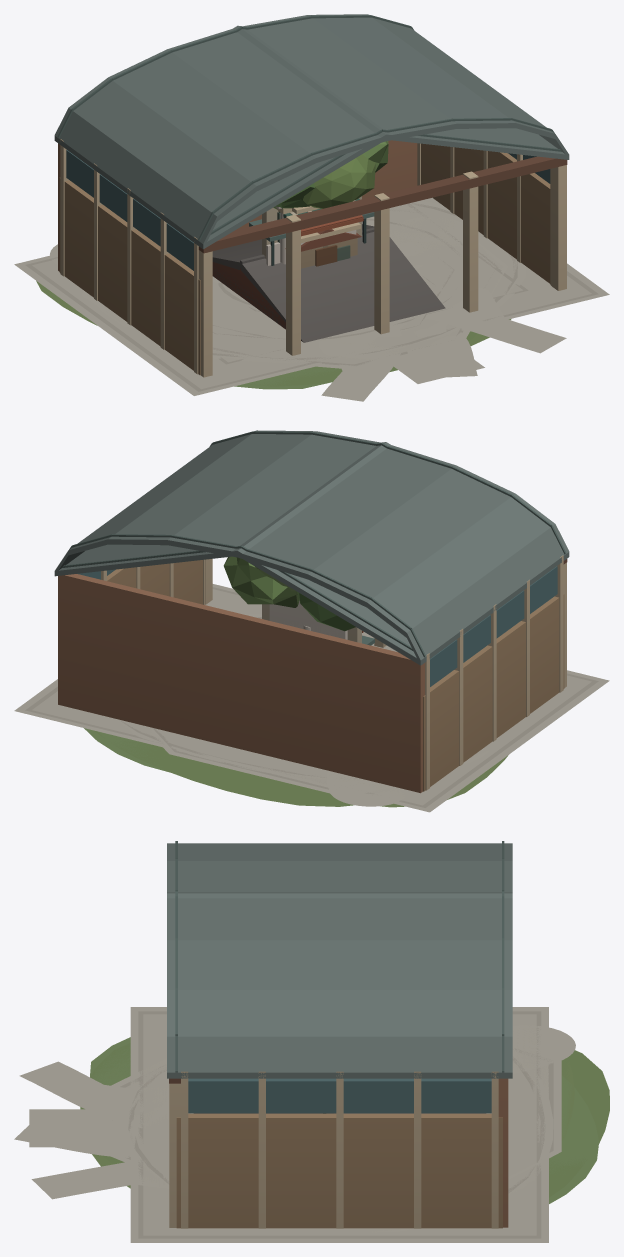
Rendered from city-kit.glb.
3 renders of one model, top to bottom at view 1: azimuth 30°, elevation 25°; view 2: azimuth 150°, elevation 25°; view 3: azimuth 270°, elevation 25°, orthographic. The views are drawn at different scales.
Visible parts, largest first — view 1: market-hall-1, market-hall-0, plaza-ground-2, pitched-roof-terrace-1, plaza-ground-0, plaza-ground-1, park-trail-1, park-trail-2, street-tree, park-trail-0, plaza-trail-0, pitched-roof-terrace-0 (+8 smaller); view 2: market-hall-0, market-hall-1, plaza-ground-2, park-ground-0, street-tree, plaza-ground-0, plaza-ground-1, park-trail-2, gf-shopfront, park-ground-1; view 3: market-hall-1, market-hall-0, plaza-ground-2, plaza-ground-0, park-trail-2, park-ground-1, park-trail-1, park-ground-0, plaza-ground-1, plaza-trail-0, plaza-trail-1, plaza-trail-2 (+1 smaller).
Boxes of the visible parts, <box> form: market-hall-1: <box>54,14,569,248</box>; market-hall-0: <box>54,25,569,377</box>; plaza-ground-2: <box>14,197,609,395</box>; pitched-roof-terrace-1: <box>212,224,445,342</box>; plaza-ground-0: <box>89,200,525,362</box>; plaza-ground-1: <box>82,206,507,368</box>; park-trail-1: <box>319,217,462,401</box>; park-trail-2: <box>50,244,566,353</box>; street-tree: <box>273,141,388,208</box>; park-trail-0: <box>212,276,473,366</box>; plaza-trail-0: <box>407,332,477,378</box>; pitched-roof-terrace-0: <box>212,262,301,340</box>; market-hall-0: <box>54,442,569,793</box>; market-hall-1: <box>55,430,569,664</box>; plaza-ground-2: <box>14,584,609,812</box>; park-ground-0: <box>94,730,353,806</box>; street-tree: <box>223,556,355,631</box>; plaza-ground-0: <box>116,614,490,783</box>; plaza-ground-1: <box>150,632,396,794</box>; park-trail-2: <box>327,770,411,806</box>; gf-shopfront: <box>269,601,345,638</box>; park-ground-1: <box>84,728,312,790</box>; market-hall-1: <box>167,841,512,1072</box>; market-hall-0: <box>167,890,512,1228</box>; plaza-ground-2: <box>130,1007,548,1242</box>; plaza-ground-0: <box>120,1048,553,1232</box>; park-trail-2: <box>31,1025,575,1199</box>; park-ground-1: <box>90,1037,598,1203</box>; park-trail-1: <box>19,1061,169,1128</box>; park-ground-0: <box>80,1043,609,1197</box>; plaza-ground-1: <box>99,1043,561,1179</box>; plaza-trail-0: <box>14,1110,131,1157</box>; plaza-trail-1: <box>29,1109,98,1140</box>; plaza-trail-2: <box>29,1116,130,1147</box>.
Size of the model in its own units: 17.78 by 8.71 by 18.8.
